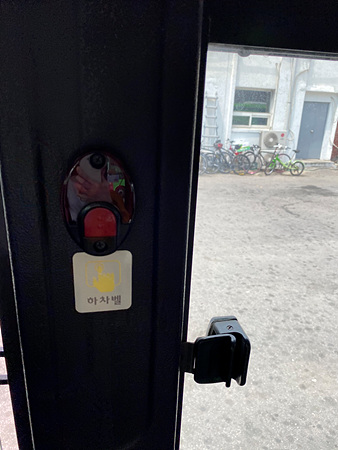bell: (64, 147, 136, 253)
